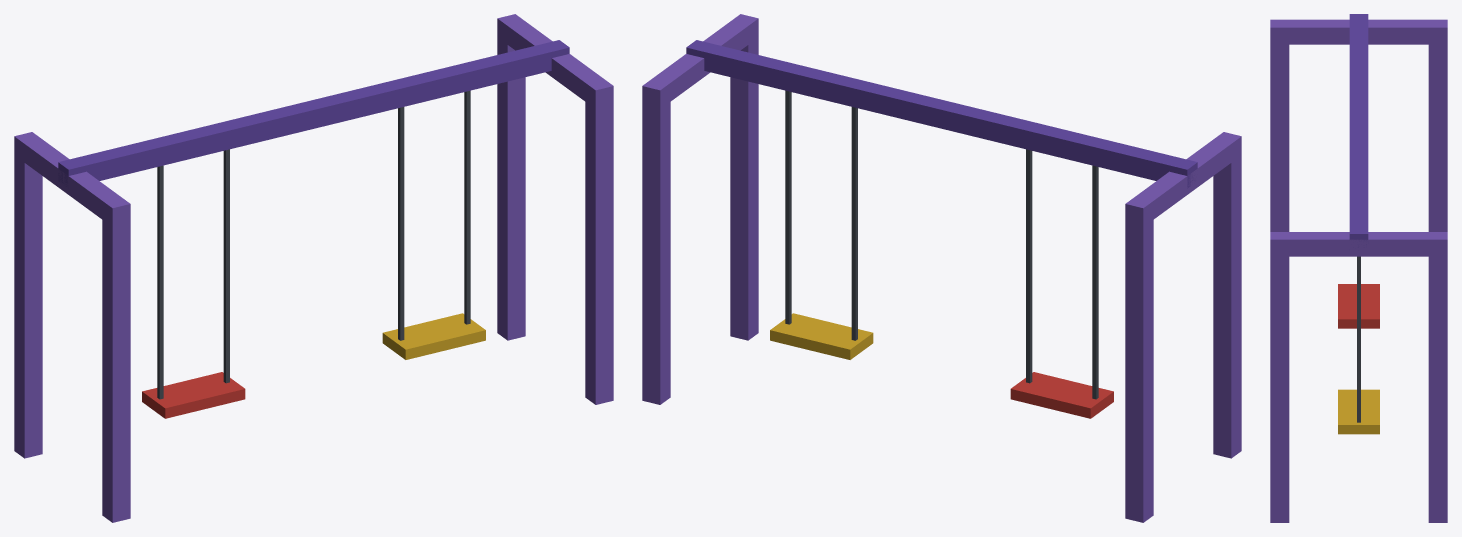
Rendered from swing-set.glb.
The picture shows the model from 3 angles, left to right: view 1: azimuth 30°, elevation 25°; view 2: azimuth 150°, elevation 25°; view 3: azimuth 270°, elevation 25°; orthographic projection. The views are drawn at different scales.
Visible parts, largest first — view 1: box-prop, part-seat-a, part-seat-b; view 2: box-prop, part-seat-a, part-seat-b; view 3: box-prop, part-seat-b, part-seat-a.
Boxes of the visible parts, x1,y1,x2,y2 form: box-prop: (14,14,613,522); part-seat-a: (142,149,245,418); part-seat-b: (382,90,485,359); box-prop: (642,14,1241,522); part-seat-a: (1010,149,1113,418); part-seat-b: (770,90,873,359); box-prop: (1270,14,1447,522); part-seat-b: (1338,256,1379,434); part-seat-a: (1338,284,1379,328).
Bounding box in the file's own units: 5 × 3.06 × 1.7.
